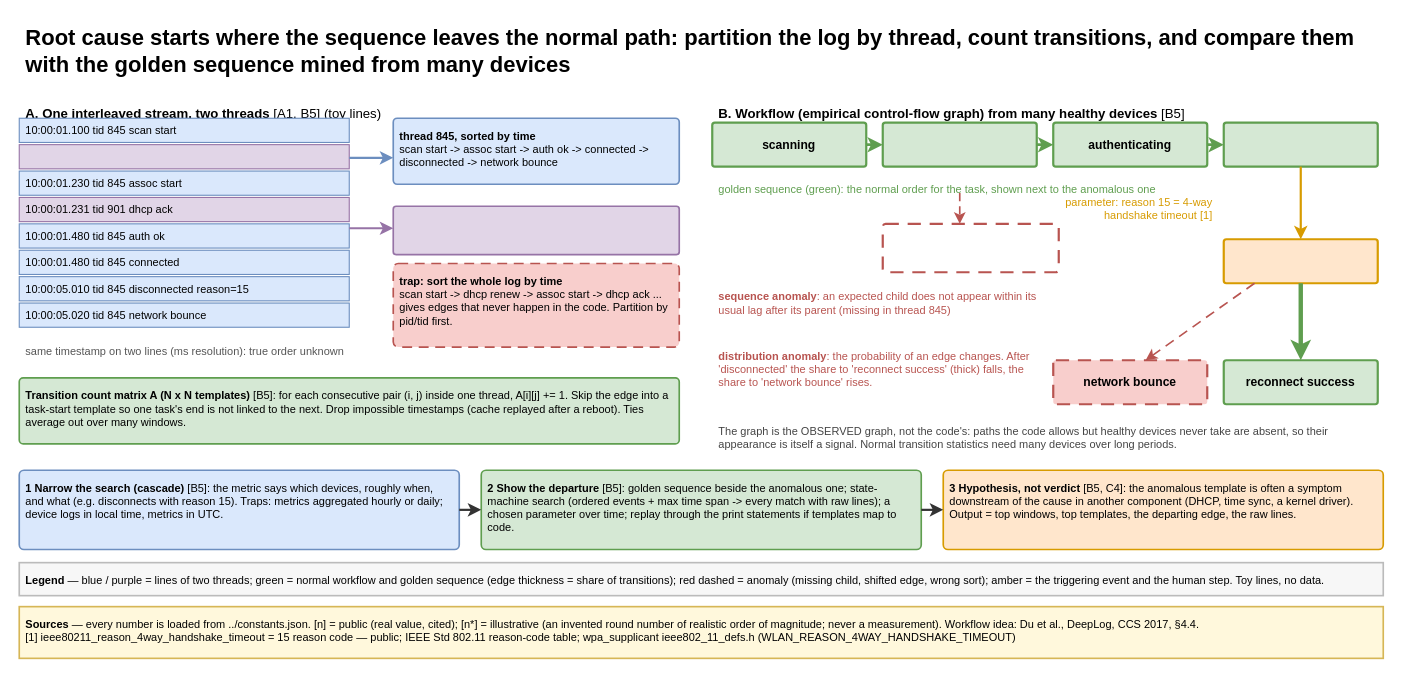
Some shapes in this 1404 by 678 pixel diagram are drawn without their labels. The shapes that lost their labels are listed below. From the top down, each one's centre as x and y in pixels, then its label:
At pixel 183 156: "10:00:01.100 tid 901 dhcp renew".
At pixel 959 144: "associating".
At pixel 1300 144: "connected".
At pixel 536 230: "thread 901 dhcp renew -> dhcp ack".
At pixel 970 247: "association complete (expected child)".
At pixel 1300 261: "disconnected".
